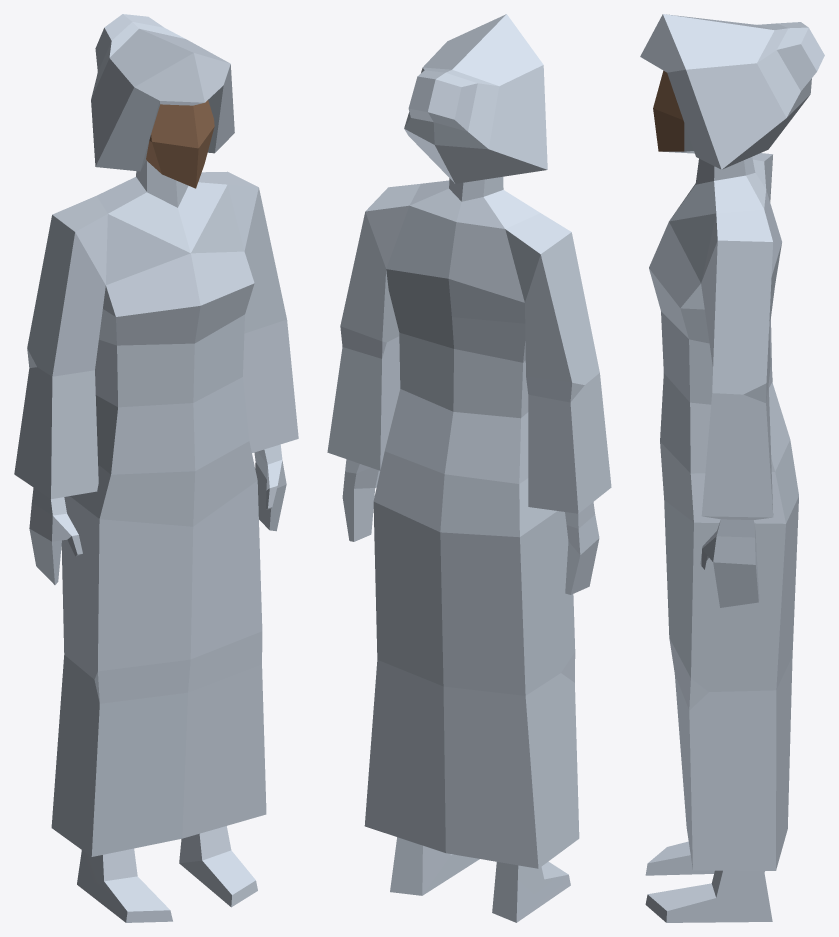
The model's file is doll3.glb.
3 renders of one model, left to right at view 1: azimuth 30°, elevation 25°; view 2: azimuth 150°, elevation 25°; view 3: azimuth 270°, elevation 25°, orthographic. The views are drawn at different scales.
Parts seen in each view (by area): view 1: woman-geisha; view 2: woman-geisha; view 3: woman-geisha.
Boxes of the visible parts, x1,y1,x2,y2 form: woman-geisha: (14,14,298,922); woman-geisha: (327,14,611,922); woman-geisha: (640,14,824,922).
Size of the model in its own units: 0.5642 by 1.84 by 0.3509.
1 material, 1 textured.
